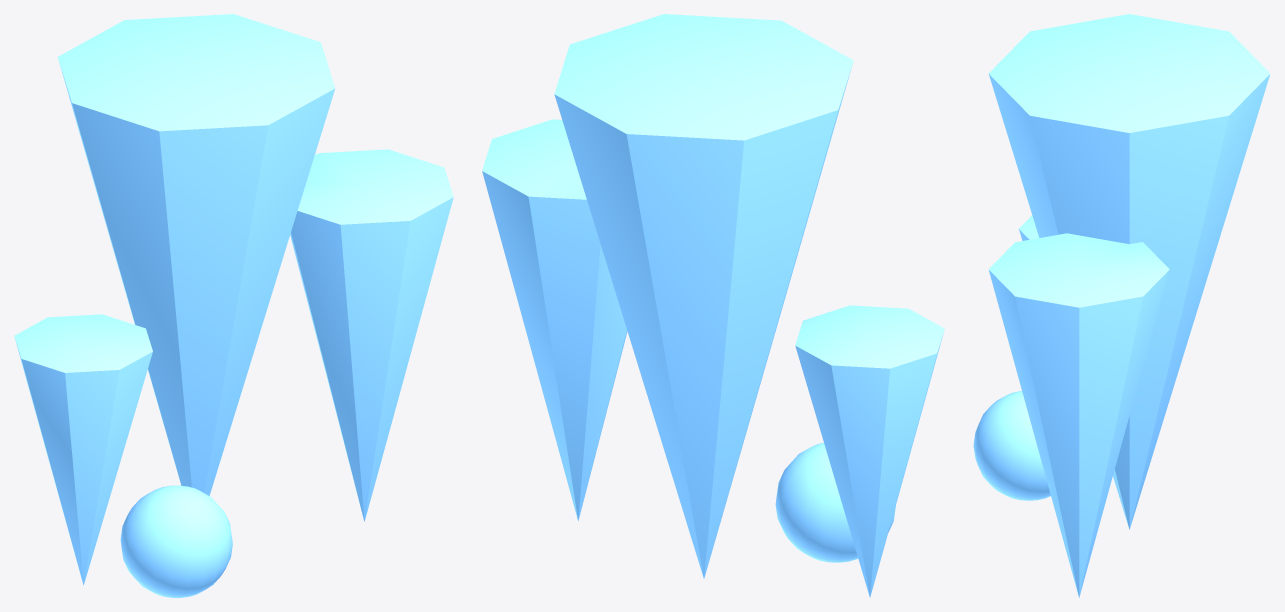
3 views of the same model, side by side, from view 1: azimuth 30°, elevation 25°; view 2: azimuth 150°, elevation 25°; view 3: azimuth 270°, elevation 25° (orthographic). The views are drawn at different scales.
Parts seen in each view (by area): view 1: landmark_f76bce7f; view 2: landmark_f76bce7f; view 3: landmark_f76bce7f.
Part boxes in pixels (x1,y1,x2,y2): landmark_f76bce7f: [14, 14, 453, 597]; landmark_f76bce7f: [482, 14, 944, 597]; landmark_f76bce7f: [973, 14, 1270, 597].
Bounding box in the file's own units: 4.7 × 5 × 2.95.
